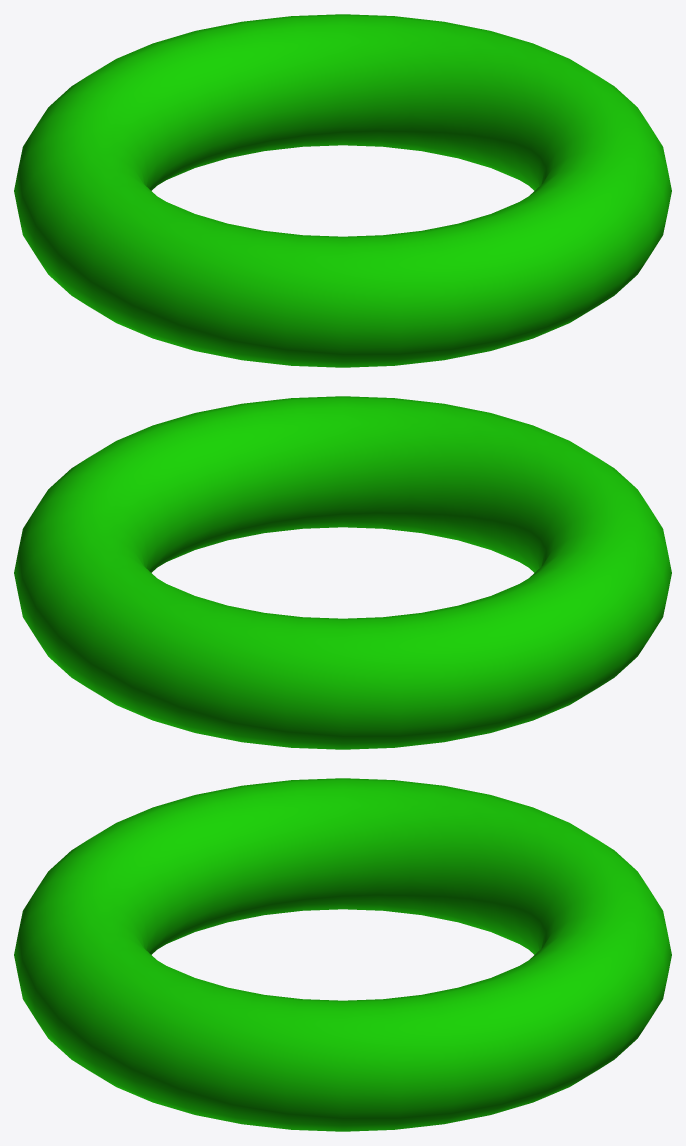
Rendered from import_test.fbx.
The picture shows the model from 3 angles, top to bottom: view 1: azimuth 30°, elevation 25°; view 2: azimuth 150°, elevation 25°; view 3: azimuth 270°, elevation 25°; orthographic projection.
Parts seen in each view (by area): view 1: Torus; view 2: Torus; view 3: Torus.
Boxes of the visible parts, x1,y1,x2,y2 form: Torus: [14, 14, 671, 367]; Torus: [14, 396, 671, 749]; Torus: [14, 778, 671, 1131].
Bounding box in the file's own units: 500 × 98.48 × 500.
